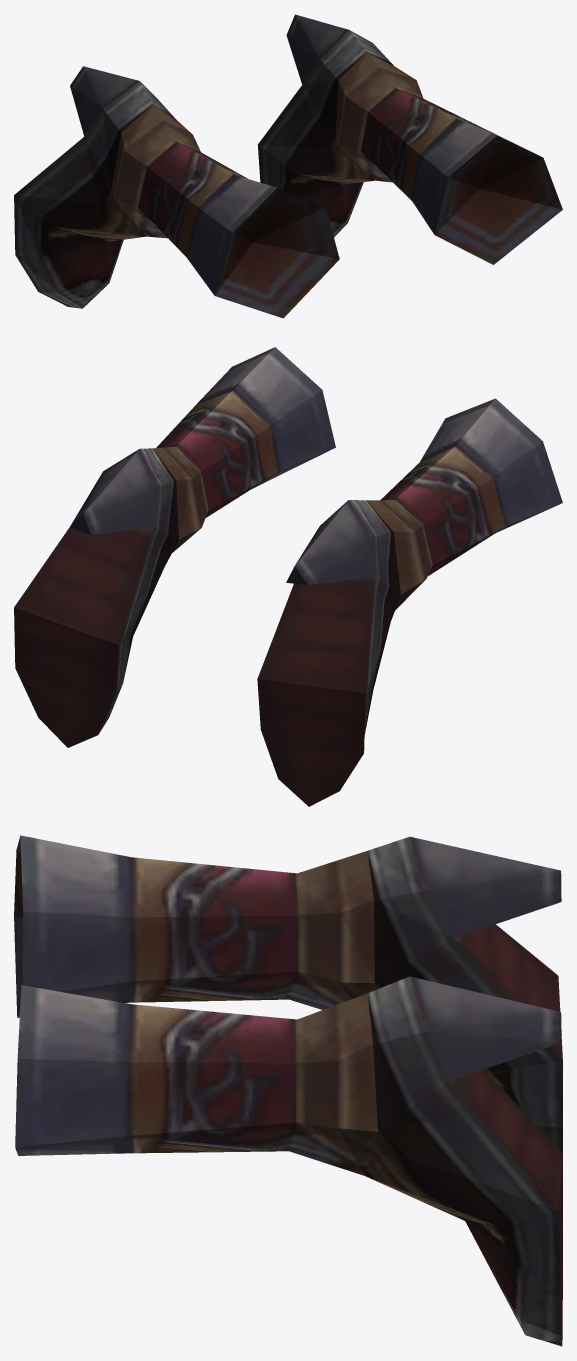
Rendered from priest_shoe_female_49570.obj.
3 views of the same model, one above another, from view 1: azimuth 30°, elevation 25°; view 2: azimuth 150°, elevation 25°; view 3: azimuth 270°, elevation 25° (orthographic). The views are drawn at different scales.
Visible parts, largest first — view 1: priest_shoe_female_49570; view 2: priest_shoe_female_49570; view 3: priest_shoe_female_49570.
Part boxes in pixels (<box>): priest_shoe_female_49570: <box>14,14,562,318</box>; priest_shoe_female_49570: <box>14,347,562,806</box>; priest_shoe_female_49570: <box>14,835,562,1346</box>.
Bounding box in the file's own units: 17.9 × 12.76 × 17.66.
Materials: 1 (1 with a texture image).
